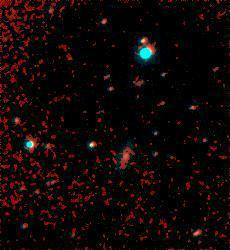star: (114, 139, 144, 169)
